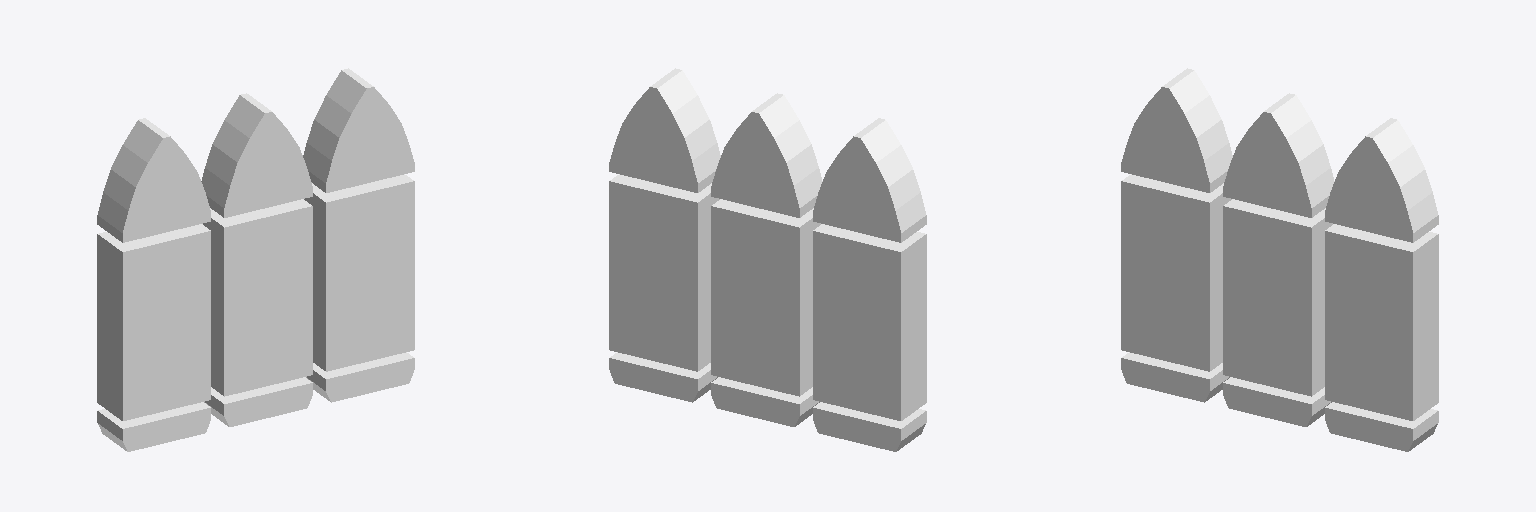
File: SciFi_Icon_Ammo.obj
3 renders of one model, left to right at view 1: azimuth 30°, elevation 25°; view 2: azimuth 150°, elevation 25°; view 3: azimuth 330°, elevation 25°, orthographic.
Parts seen in each view (by area): view 1: SM_Icon_Ammo; view 2: SM_Icon_Ammo; view 3: SM_Icon_Ammo.
Boxes of the visible parts, <box> form: SM_Icon_Ammo: <box>97,68,414,451</box>; SM_Icon_Ammo: <box>609,68,926,451</box>; SM_Icon_Ammo: <box>1121,68,1438,451</box>.
Size of the model in its own units: 1 by 1 by 0.15.